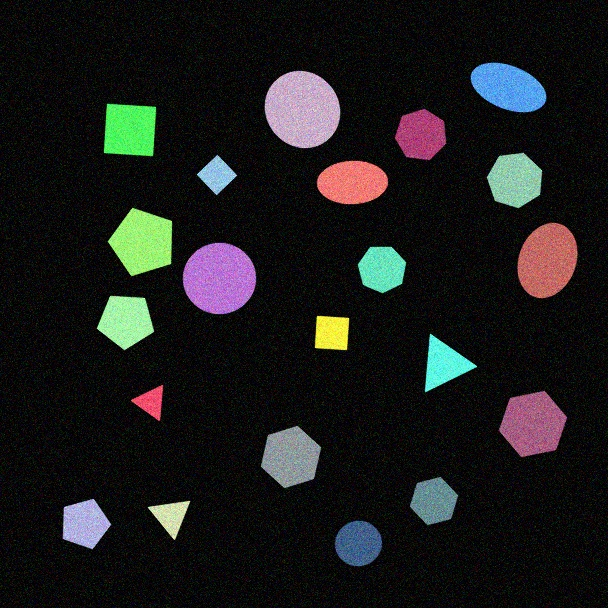Circulo: (264, 70, 341, 149), (182, 242, 257, 315), (334, 520, 383, 567)
Elipse: (517, 222, 578, 299), (470, 62, 547, 113), (316, 160, 389, 205)
Heptagono: (486, 152, 543, 209), (394, 108, 447, 161), (357, 246, 407, 294)
Hexagono: (498, 390, 568, 458), (260, 425, 322, 489), (409, 476, 459, 526)
Pentagono: (107, 207, 173, 277), (96, 295, 155, 351), (62, 498, 112, 550)
Quadrado: (103, 103, 157, 157), (196, 154, 238, 196), (314, 315, 350, 351)
Triangulo: (424, 333, 478, 393), (147, 500, 191, 541), (131, 384, 164, 422)
